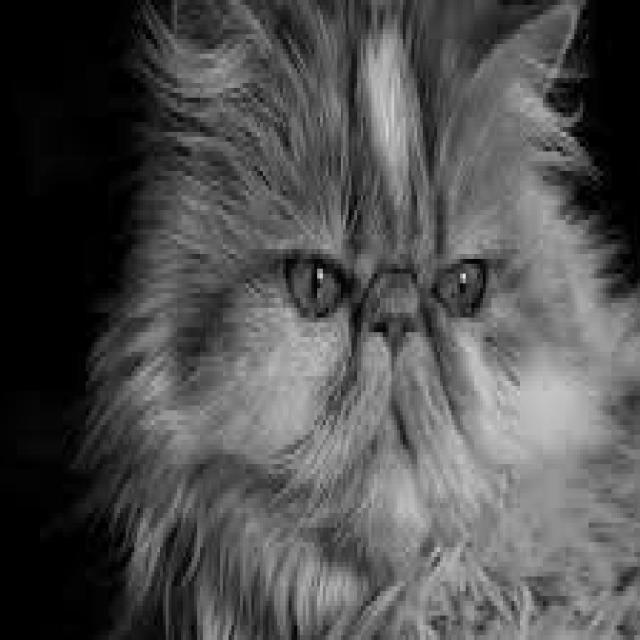iran: (83, 0, 640, 586)
